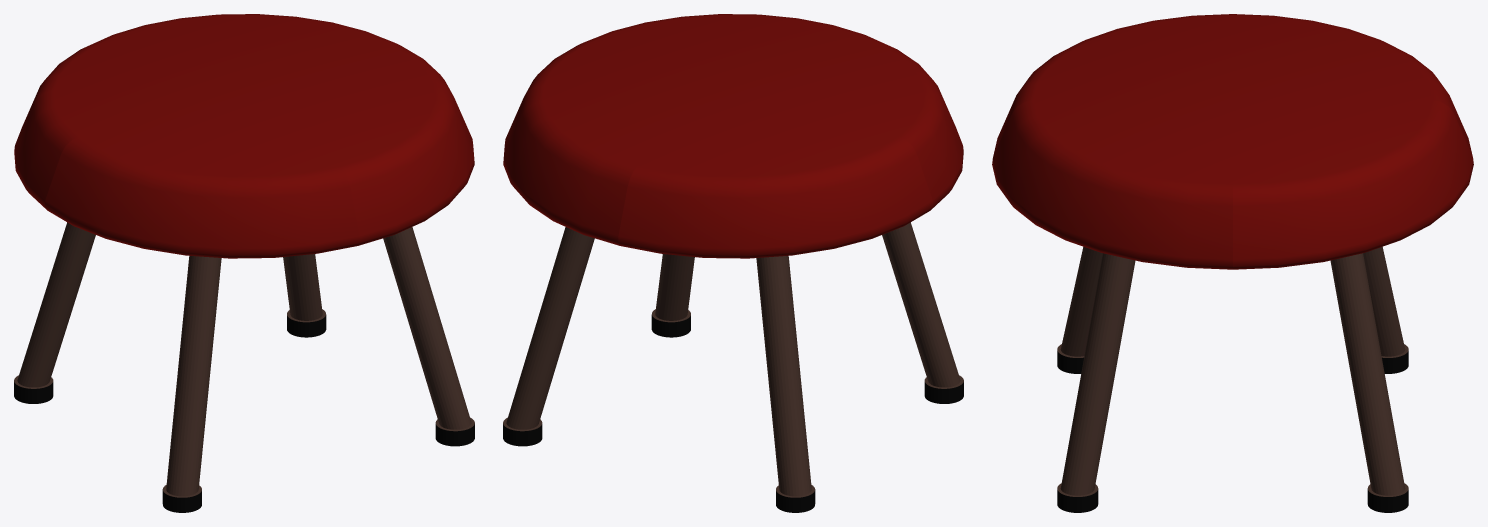
The model's file is banco.fbx.
3 views of the same model, side by side, from view 1: azimuth 30°, elevation 25°; view 2: azimuth 150°, elevation 25°; view 3: azimuth 270°, elevation 25° (orthographic). The views are drawn at different scales.
Parts seen in each view (by area): view 1: Circle.002; view 2: Circle.002; view 3: Circle.002.
Part boxes in pixels (<box>): Circle.002: <box>14,14,474,512</box>; Circle.002: <box>503,14,963,512</box>; Circle.002: <box>992,14,1473,512</box>.
Bounding box in the file's own units: 196 × 150 × 196.
